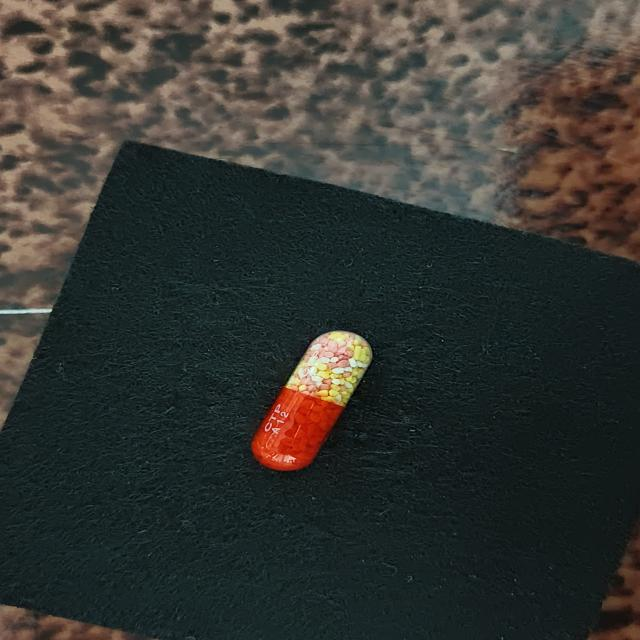Intact Capsule: (251, 331, 372, 471)
